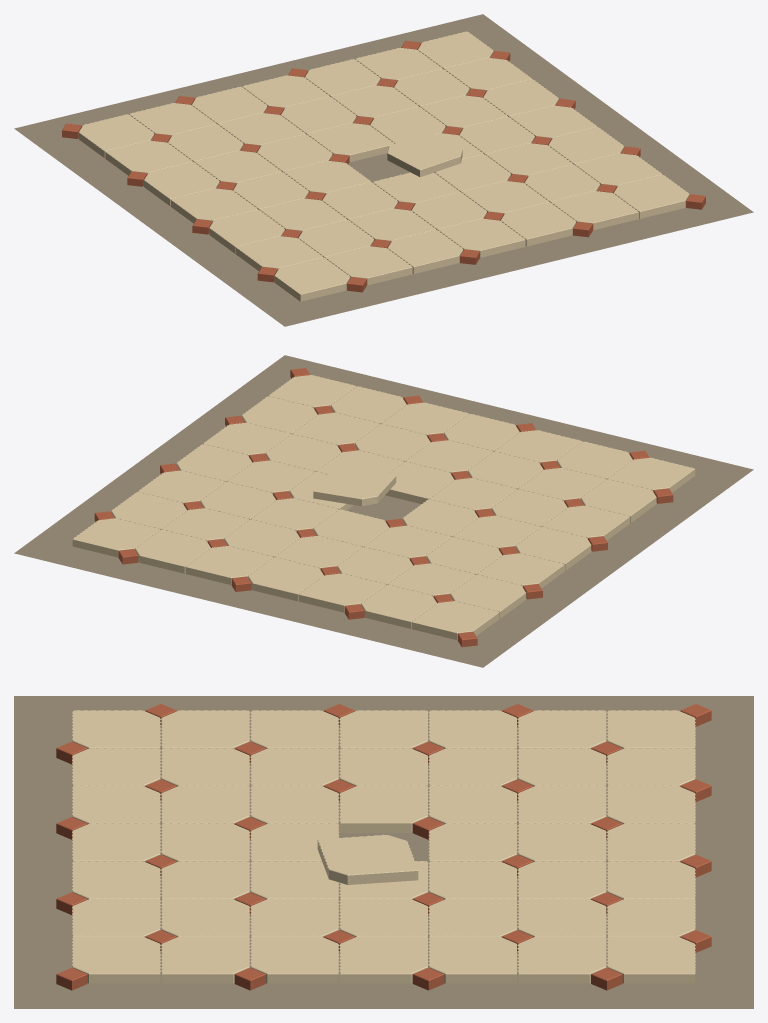
The model's file is terilgan.glb.
The picture shows the model from 3 angles, top to bottom: view 1: azimuth 30°, elevation 25°; view 2: azimuth 150°, elevation 25°; view 3: azimuth 270°, elevation 25°; orthographic projection. The views are drawn at different scales.
Parts seen in each view (by area): view 1: qum, t.024, t, t.004, t.002, t.005, t.001, t.006, t.003, t.031, t.042, t.014 (+37 smaller); view 2: qum, t.024, t.042, t.046, t.044, t.048, t.047, t.043, t.045, t.035, t.021, t.007 (+38 smaller); view 3: qum, t.024, t.006, t.048, t.013, t.041, t.027, t.034, t.020, t.023, t.009, t.037 (+42 smaller).
Part boxes in pixels (x1,y1,x2,y2): qum: (14,14,753,326); t.024: (387,132,462,177); t: (274,257,350,301); t.004: (500,202,576,246); t.002: (387,230,463,273); t.005: (551,191,638,230); t.001: (325,246,412,285); t.006: (613,175,689,218); t.003: (438,218,525,257); t.031: (307,123,394,162); t.042: (78,114,154,158); t.014: (209,210,284,253); qum: (14,355,753,667); t.024: (313,467,396,506); t.042: (411,601,499,640); t.046: (185,546,273,584); t.044: (298,573,386,612); t.048: (72,518,160,557); t.047: (135,529,210,573); t.043: (361,584,436,628); t.045: (248,557,323,601); t.035: (450,574,526,618); t.021: (515,527,591,570); t.007: (581,479,656,523); qum: (14,696,753,1008); t.024: (317,834,418,884); t.006: (72,936,160,983); t.048: (607,936,695,983); t.013: (161,936,249,983); t.041: (518,936,606,983); t.027: (339,936,428,983); t.034: (428,936,517,983); t.020: (250,936,339,983); t.023: (339,785,428,832); t.009: (161,785,249,824); t.037: (518,785,606,823).
Bounding box in the file's own units: 1.66 × 0.052 × 1.66.
